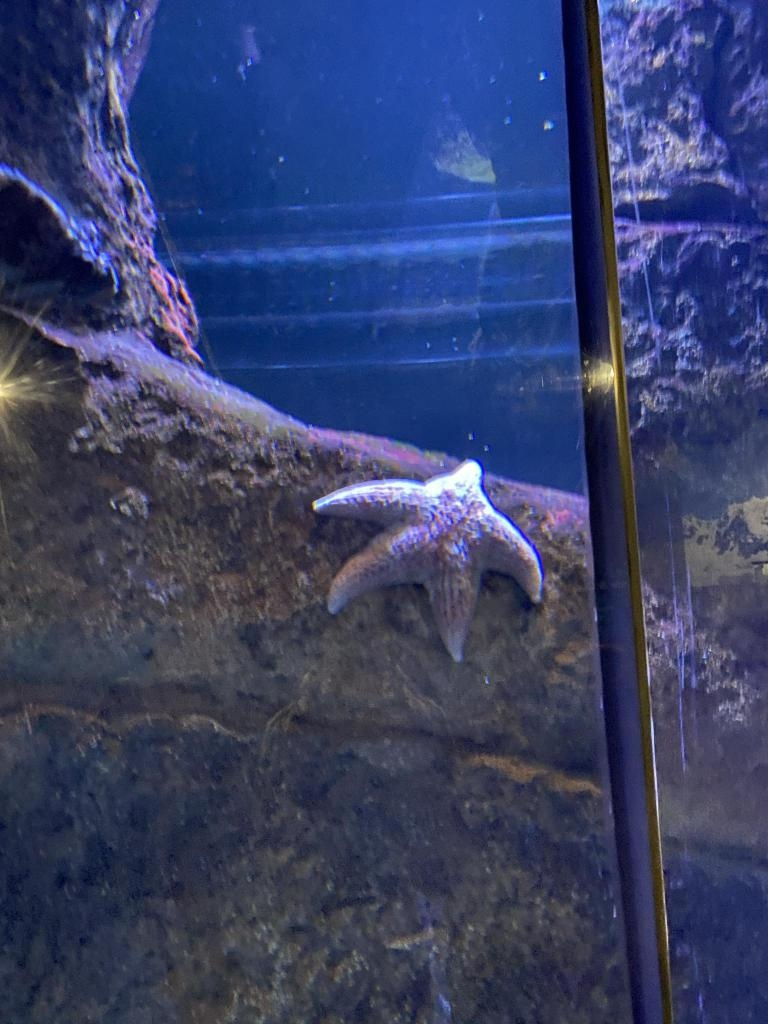starfish: (303, 454, 539, 646)
